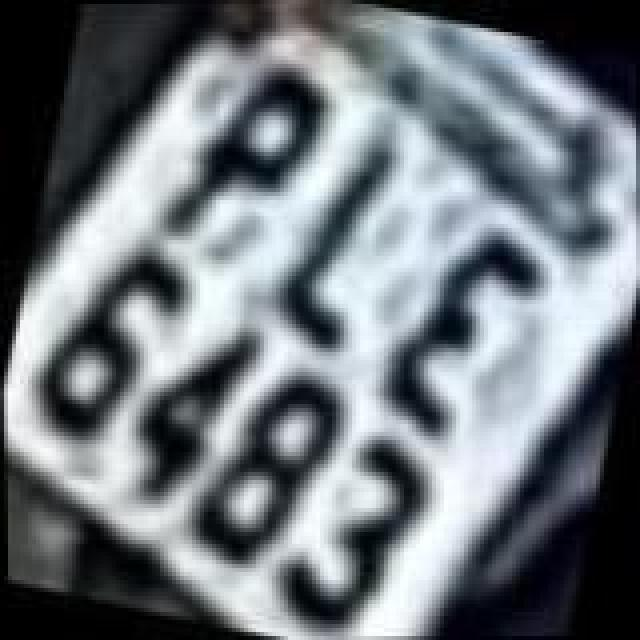3: (262, 416, 450, 640)
4: (108, 298, 268, 522)
6: (20, 232, 200, 464)
8: (174, 348, 354, 584)
E: (370, 206, 562, 454)
L: (256, 112, 416, 368)
P: (152, 40, 332, 268)
